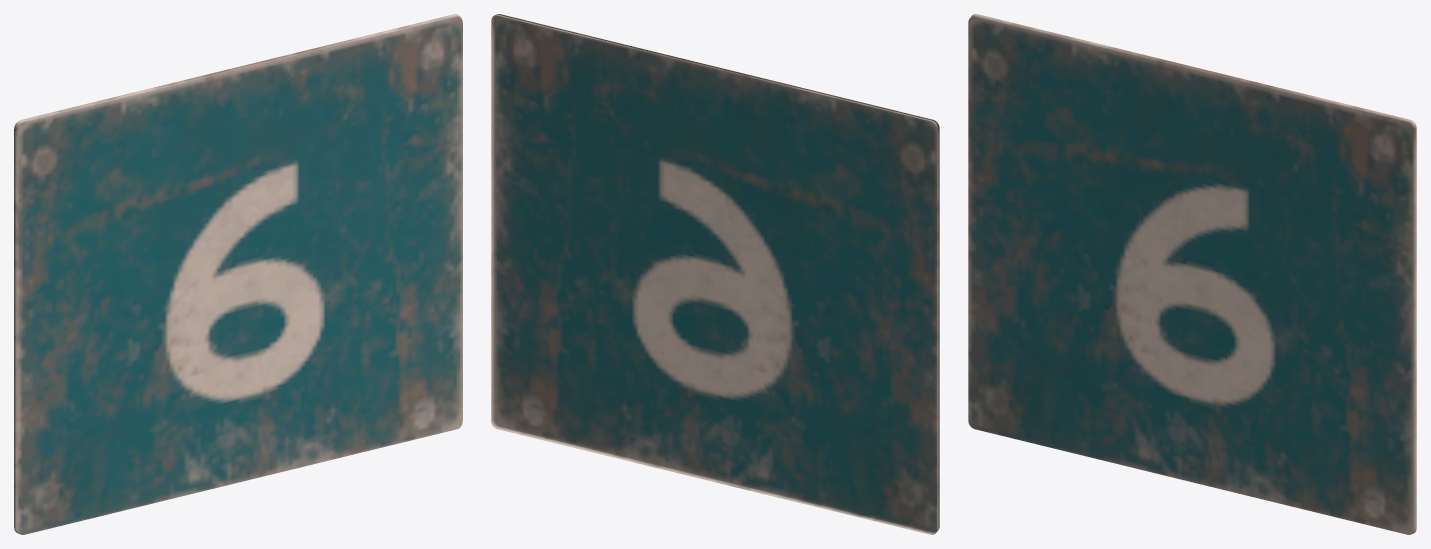
Rendered from SM_Sign_02i.glb.
The picture shows the model from 3 angles, left to right: view 1: azimuth 30°, elevation 25°; view 2: azimuth 150°, elevation 25°; view 3: azimuth 330°, elevation 25°; orthographic projection.
Parts seen in each view (by area): view 1: SM_Sign_02i; view 2: SM_Sign_02i; view 3: SM_Sign_02i.
Boxes of the visible parts, box(x1,y1,x2,y2) form: SM_Sign_02i: box(14, 14, 462, 534); SM_Sign_02i: box(491, 14, 939, 534); SM_Sign_02i: box(968, 14, 1416, 534).
Bounding box in the file's own units: 0.1682 × 0.149 × 0.00195.
1 material, 1 textured.
